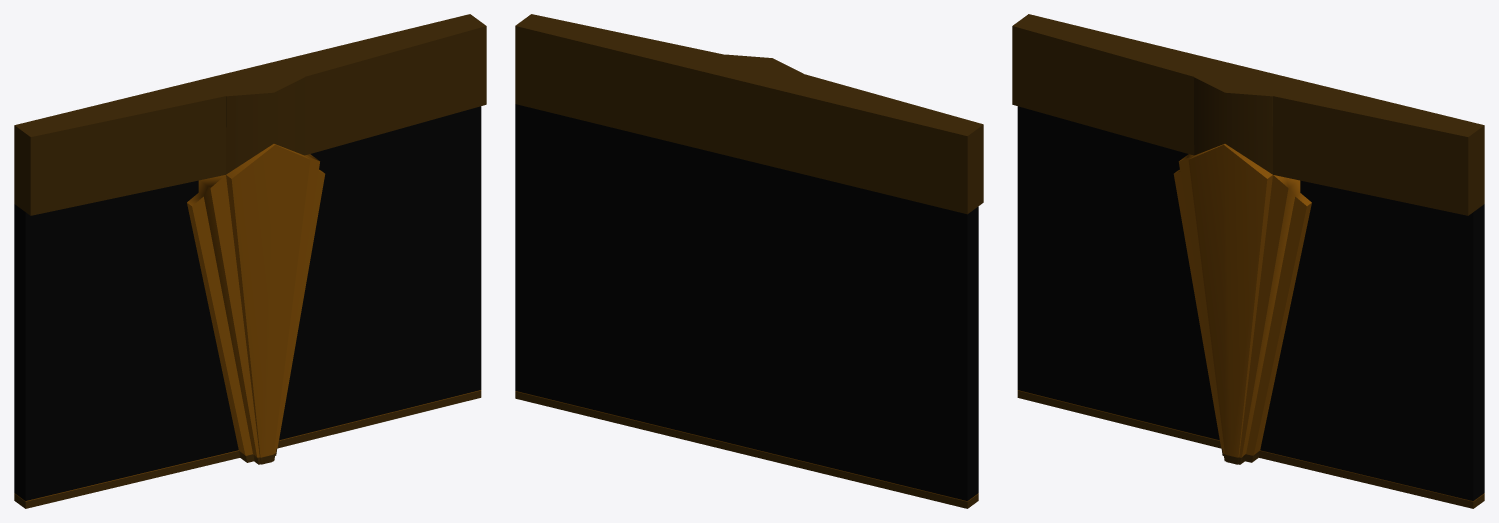
The model's file is wall_piece.obj.
3 renders of one model, left to right at view 1: azimuth 30°, elevation 25°; view 2: azimuth 150°, elevation 25°; view 3: azimuth 330°, elevation 25°, orthographic.
Visible parts, largest first — view 1: pCube1; view 2: pCube1; view 3: pCube1.
Boxes of the visible parts, x1,y1,x2,y2 form: pCube1: [14, 14, 486, 508]; pCube1: [515, 14, 983, 508]; pCube1: [1012, 14, 1484, 508].
Bounding box in the file's own units: 57.08 × 44.94 × 7.16.
